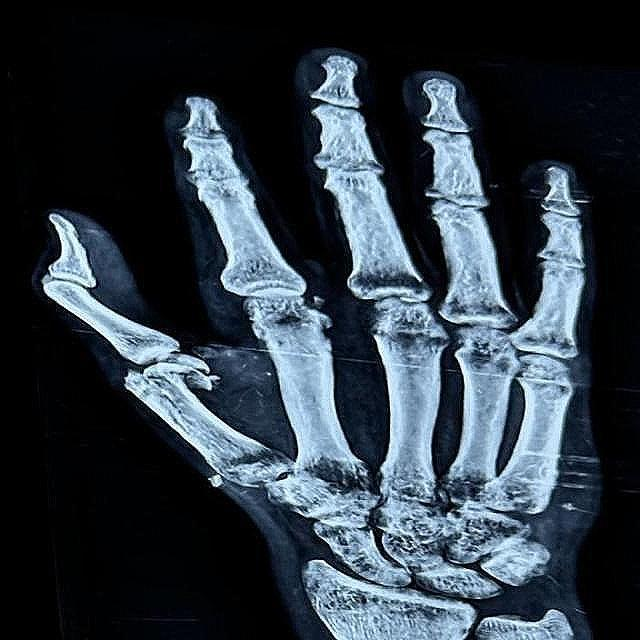bone: (96, 361, 232, 436), (227, 294, 353, 362)
